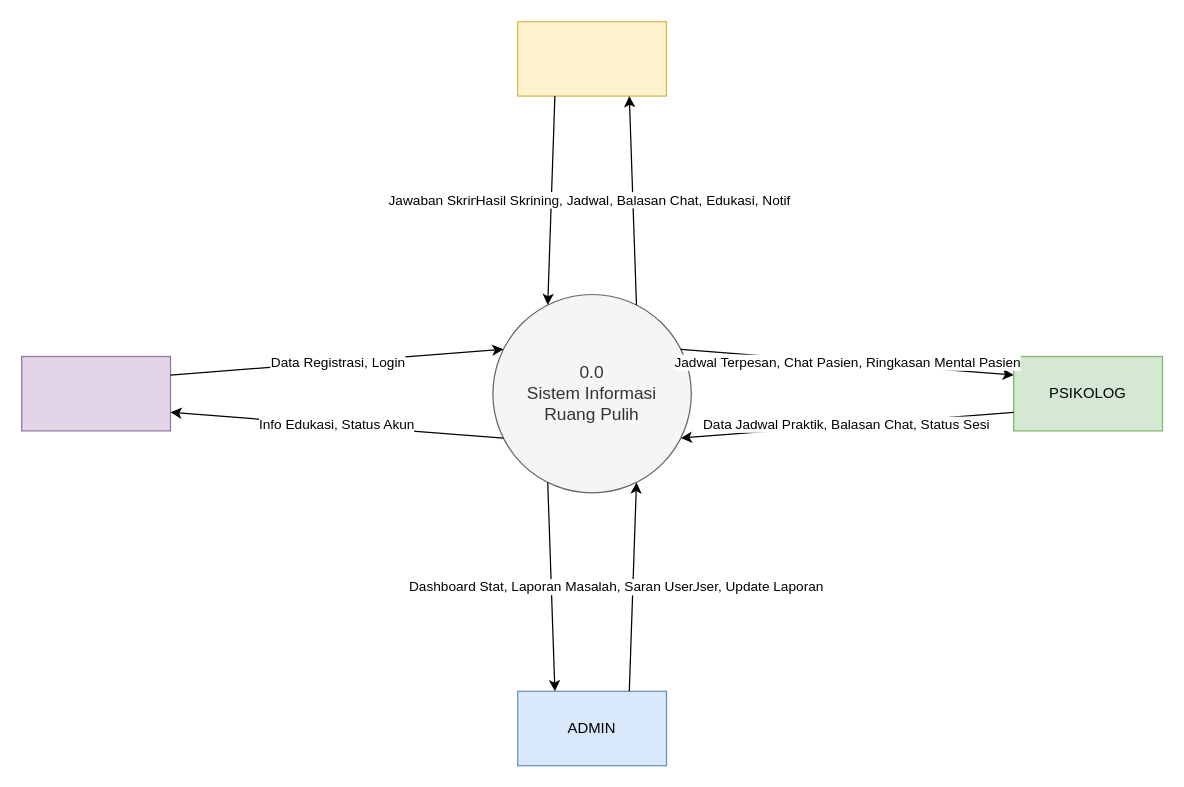
The diagram is 1184 pixels wide and 787 high, and some of its shapes have lost their labels. The centre of each missing label's shape, as x and y in pixels:
"PASIEN" belongs at (x=591, y=58).
"PENGUNJUNG" belongs at (x=95, y=393).
